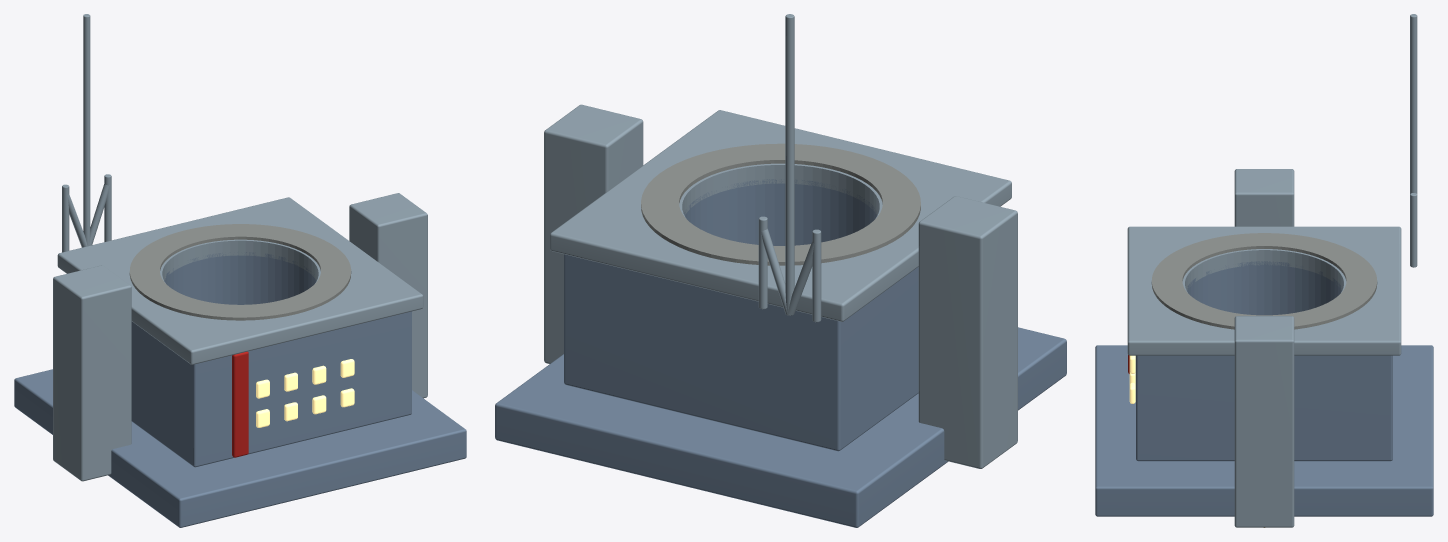
3 views of the same model, side by side, from view 1: azimuth 30°, elevation 25°; view 2: azimuth 150°, elevation 25°; view 3: azimuth 270°, elevation 25° (orthographic). The views are drawn at different scales.
Parts seen in each view (by area): view 1: Modular block storey, Foundation slab, Block roof ledge, Block buttress.001, Permanently exposed roof well, Block buttress, Aerial stem, Vertical block colour strip; view 2: Modular block storey, Foundation slab, Block roof ledge, Block buttress.001, Permanently exposed roof well, Block buttress, Aerial stem, Aerial fork tine, Aerial fork tine.001, Aerial fork.001; view 3: Modular block storey, Foundation slab, Block roof ledge, Block buttress, Permanently exposed roof well, Block buttress.001, Aerial stem, Aerial fork tine.001.
Boxes of the visible parts, <box> form: Modular block storey: <box>131,252,411,467</box>; Foundation slab: <box>14,369,466,527</box>; Block roof ledge: <box>57,197,423,364</box>; Block buttress.001: <box>53,265,131,481</box>; Permanently exposed roof well: <box>129,224,351,320</box>; Block buttress: <box>349,193,427,398</box>; Aerial stem: <box>83,14,90,246</box>; Vertical block colour strip: <box>232,351,248,457</box>; Modular block storey: <box>564,179,918,451</box>; Foundation slab: <box>495,327,1066,527</box>; Block roof ledge: <box>550,110,1011,321</box>; Block buttress.001: <box>918,196,1017,468</box>; Permanently exposed roof well: <box>641,143,920,265</box>; Block buttress: <box>544,104,643,363</box>; Aerial stem: <box>785,14,794,315</box>; Aerial fork tine: <box>812,229,821,322</box>; Aerial fork tine.001: <box>758,216,767,309</box>; Aerial fork.001: <box>761,228,787,313</box>; Modular block storey: <box>1136,261,1392,461</box>; Foundation slab: <box>1095,345,1433,516</box>; Block roof ledge: <box>1127,226,1401,355</box>; Block buttress: <box>1234,316,1294,527</box>; Permanently exposed roof well: <box>1151,233,1377,329</box>; Block buttress.001: <box>1234,169,1294,226</box>; Aerial stem: <box>1410,14,1417,194</box>; Aerial fork tine.001: <box>1410,193,1417,267</box>.
Bounding box in the file's own units: 2.46 × 2.6 × 2.04.
